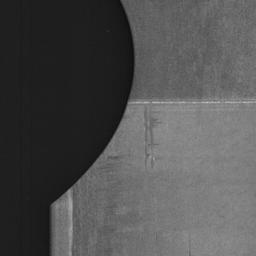Crescent gap: (54, 0, 135, 202)
